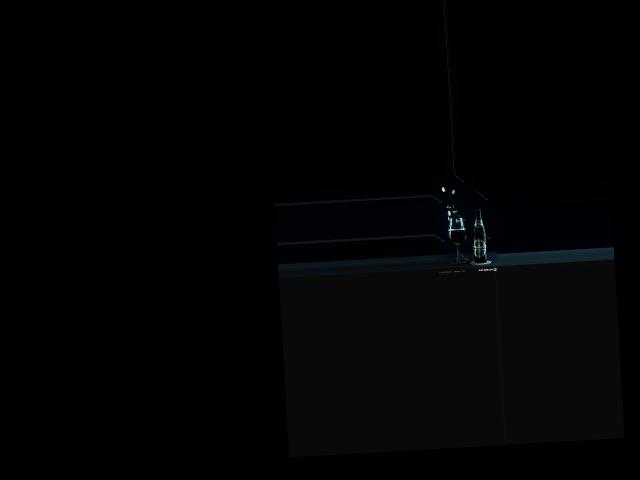beer: (471, 209, 486, 262)
